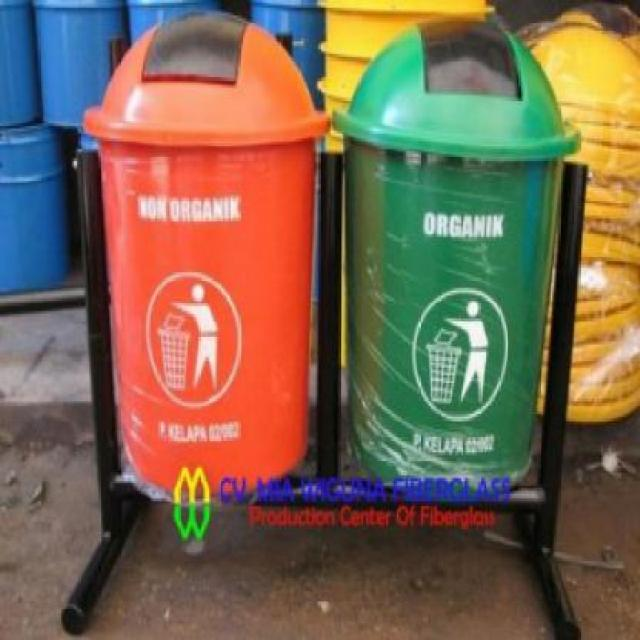garbage container: (324, 19, 584, 532), (78, 12, 334, 525)
